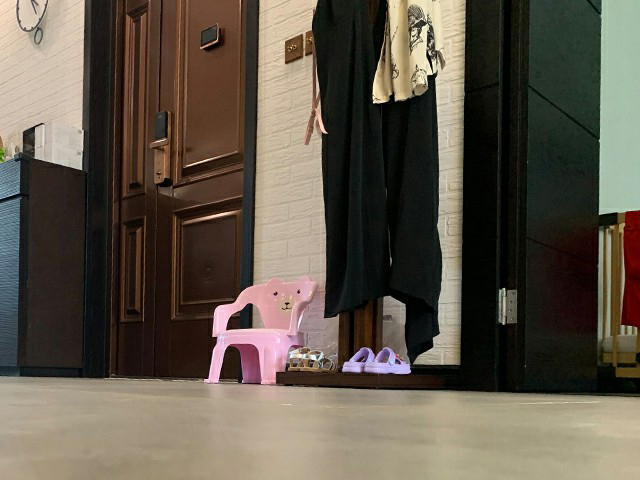cabinet: (1, 152, 85, 377)
slippers: (364, 347, 411, 376), (340, 347, 372, 372)
stool: (202, 275, 318, 387)
